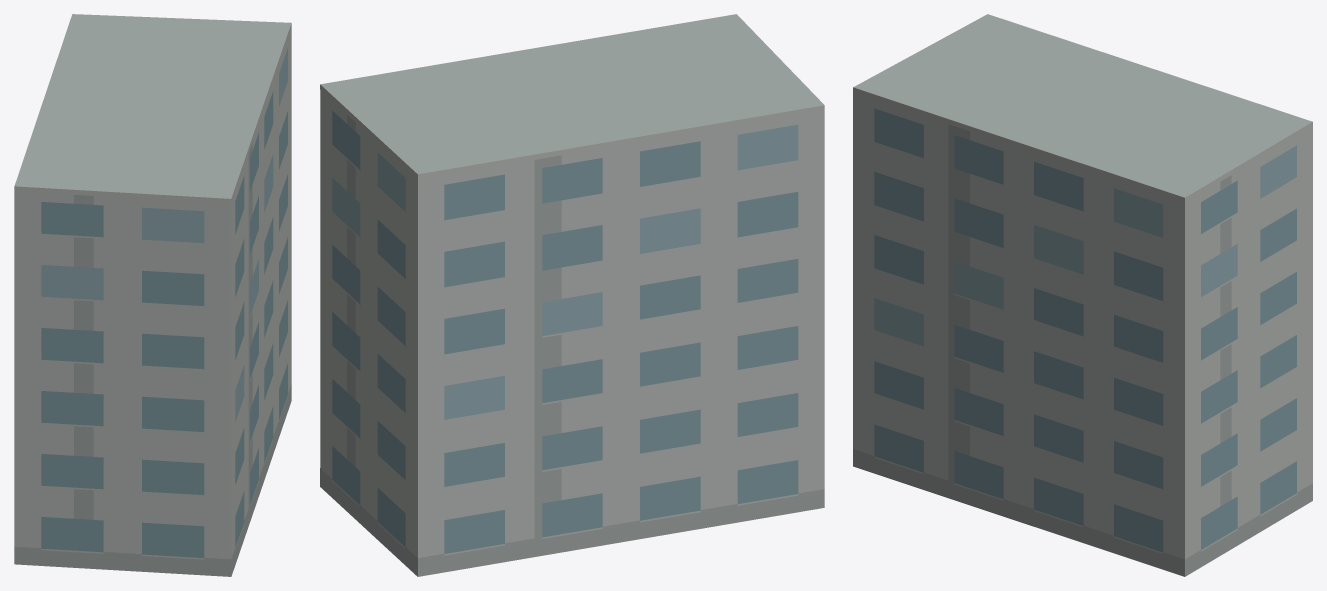
The model's file is survey-upis-32578549.glb.
The picture shows the model from 3 angles, left to right: view 1: azimuth 30°, elevation 25°; view 2: azimuth 150°, elevation 25°; view 3: azimuth 270°, elevation 25°; orthographic projection. The views are drawn at different scales.
Parts seen in each view (by area): view 1: survey-upis-32578549.tmp; view 2: survey-upis-32578549.tmp; view 3: survey-upis-32578549.tmp.
Part boxes in pixels (box(x1,y1,x2,y2)): survey-upis-32578549.tmp: box(14, 14, 291, 576); survey-upis-32578549.tmp: box(320, 14, 824, 576); survey-upis-32578549.tmp: box(853, 14, 1312, 576).
Size of the model in its own units: 19.03 by 18.3 by 20.12.
